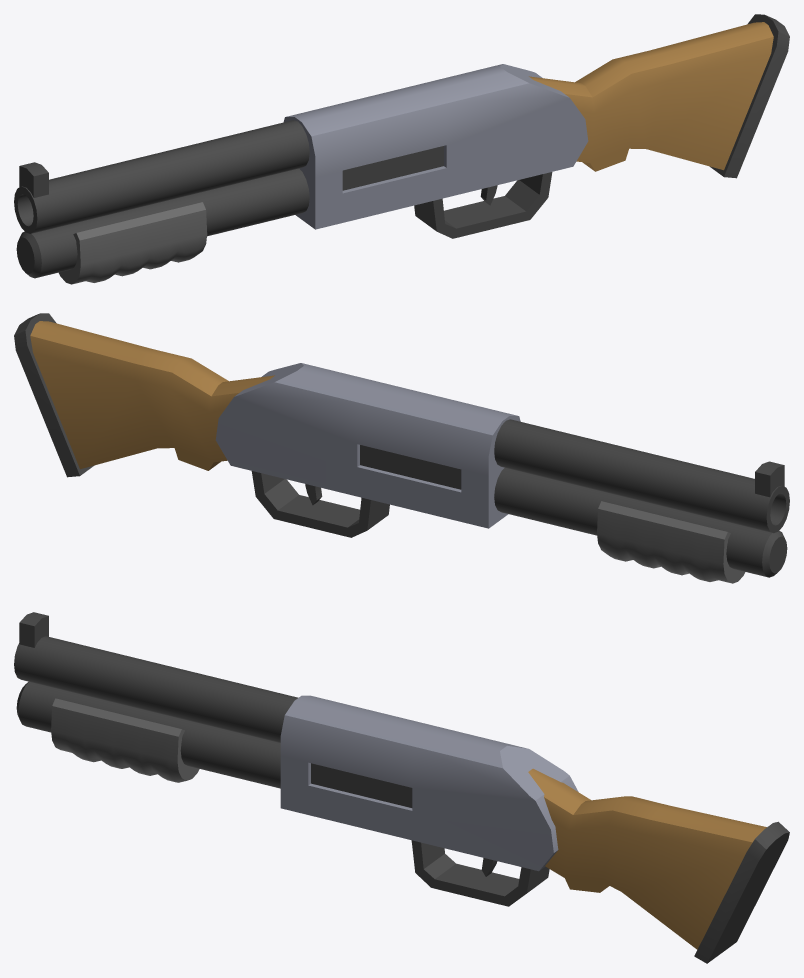
File: Shotgun.glb
3 views of the same model, one above another, from view 1: azimuth 30°, elevation 25°; view 2: azimuth 150°, elevation 25°; view 3: azimuth 330°, elevation 25° (orthographic).
Visible parts, largest first — view 1: Shotgun; view 2: Shotgun; view 3: Shotgun.
Part boxes in pixels (x1,y1,x2,y2): Shotgun: (14, 14, 789, 284); Shotgun: (14, 313, 789, 583); Shotgun: (14, 612, 789, 963).
Size of the model in its own units: 1.55 by 0.3308 by 0.1224.
